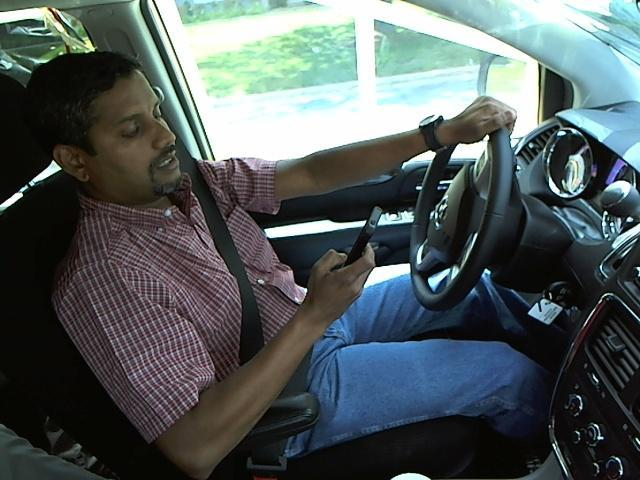PhoneUse: (334, 193, 389, 279)
